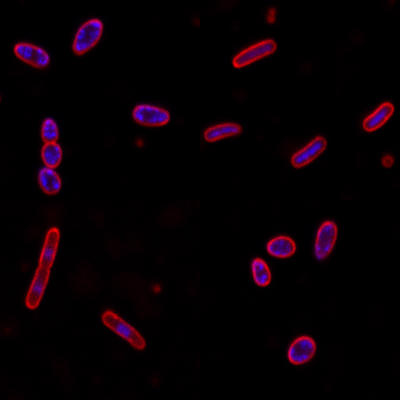Mecillinam: (40, 116, 65, 167), (70, 18, 103, 56), (12, 41, 51, 69), (285, 335, 317, 367), (130, 103, 171, 127), (265, 234, 296, 258), (250, 257, 272, 288)
Nalidixate: (23, 227, 61, 312), (101, 307, 146, 351)
Oblique: (312, 217, 339, 261), (36, 166, 62, 195)
Rifampicin: (230, 39, 277, 69), (289, 135, 328, 169), (361, 102, 395, 134), (202, 120, 243, 144)
Vesicle: (379, 152, 395, 169), (264, 6, 277, 25), (150, 281, 163, 294), (134, 136, 144, 147)
